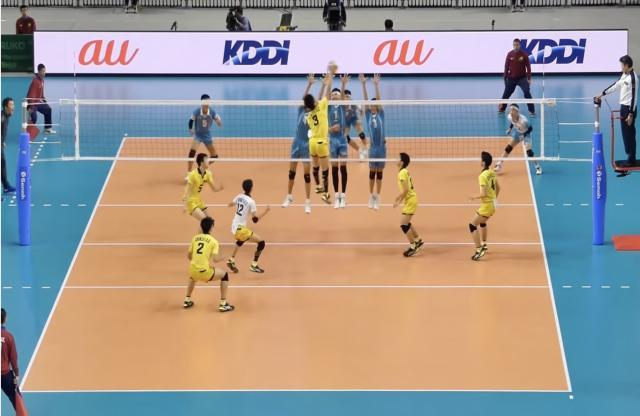spike: (301, 58, 344, 207)
